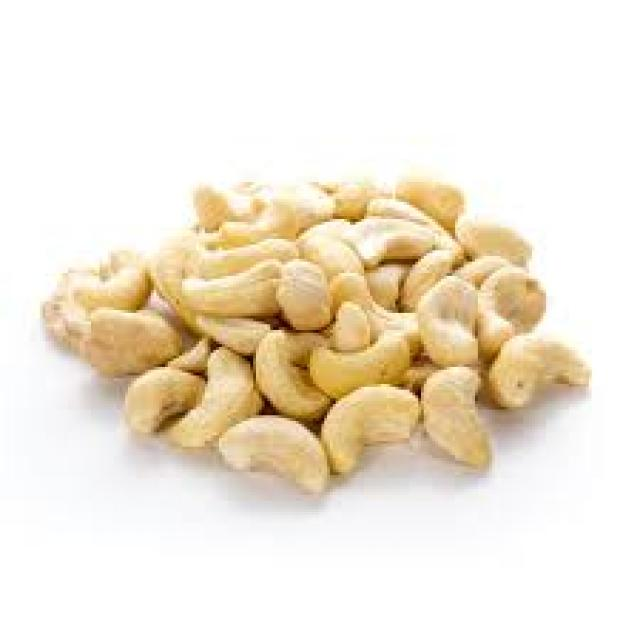cashew: (232, 412, 347, 516), (325, 382, 438, 478), (424, 362, 506, 489), (493, 340, 581, 440), (111, 364, 198, 438), (286, 260, 362, 339), (192, 360, 267, 434), (486, 272, 562, 345), (424, 278, 485, 366), (369, 209, 455, 270), (175, 252, 261, 308), (89, 304, 143, 361)
